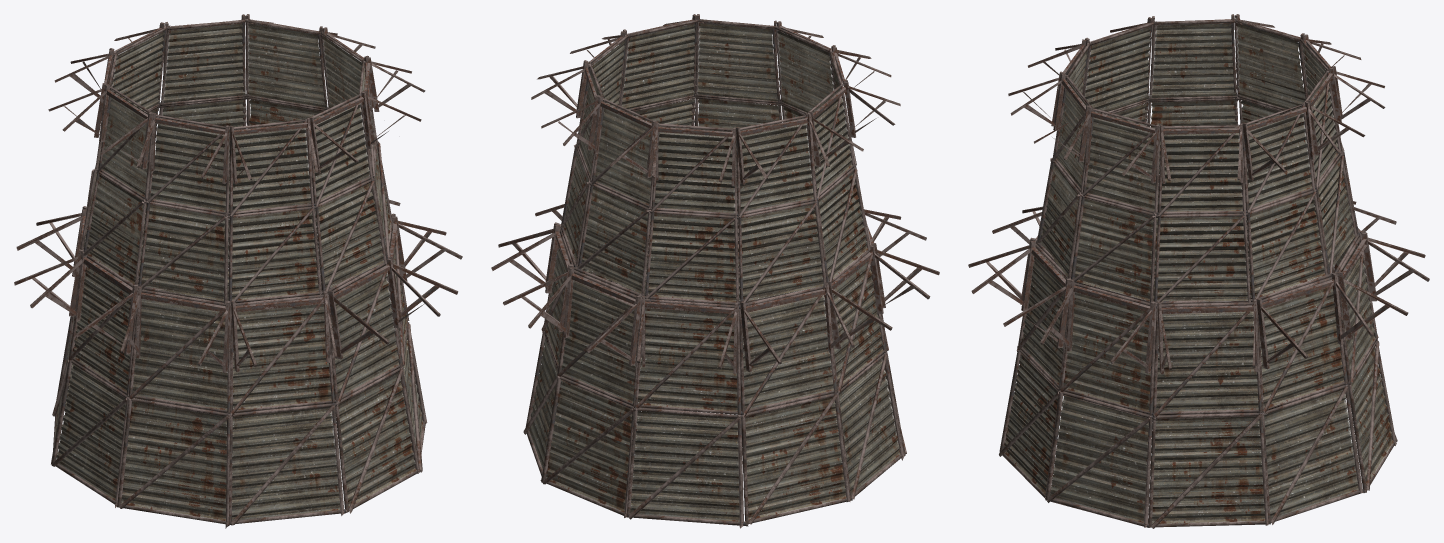
3 views of the same model, side by side, from view 1: azimuth 30°, elevation 25°; view 2: azimuth 150°, elevation 25°; view 3: azimuth 270°, elevation 25° (orthographic).
Visible parts, largest first — view 1: SM_Base_LOD0; view 2: SM_Base_LOD0; view 3: SM_Base_LOD0.
Part boxes in pixels (left/top/right/bottom): SM_Base_LOD0: left=14, top=14, right=462, bottom=528; SM_Base_LOD0: left=491, top=14, right=939, bottom=528; SM_Base_LOD0: left=968, top=14, right=1429, bottom=528.
Size of the model in its own units: 1076 by 1101 by 1003.
1 material, 1 textured.
